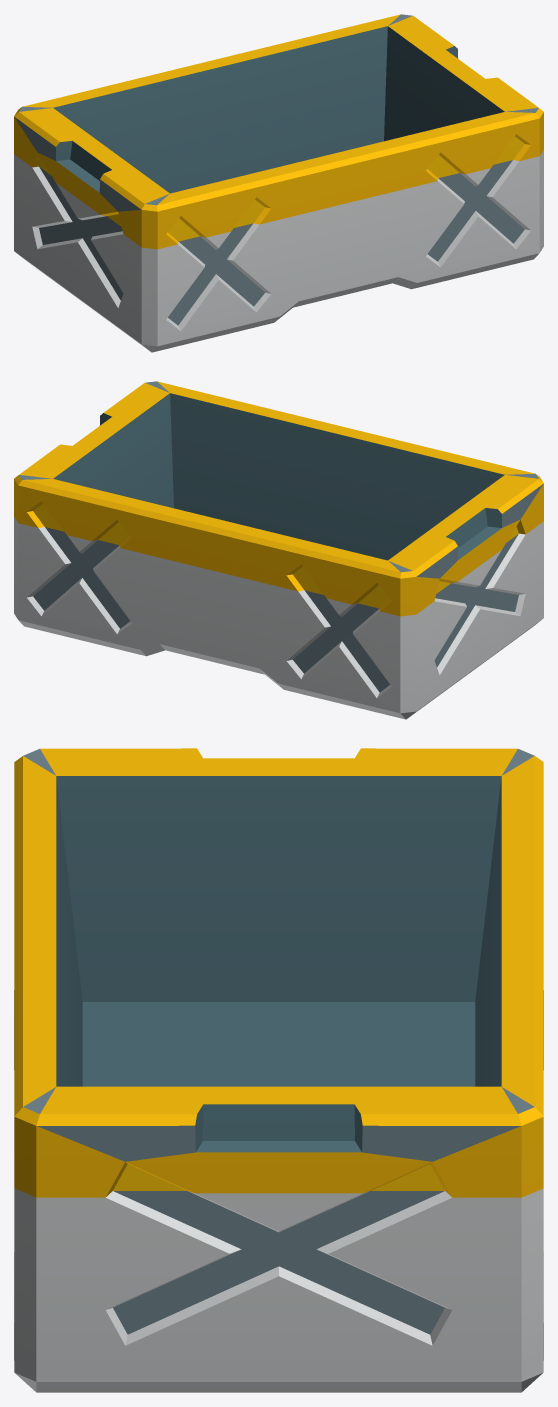
The model's file is Crate_010.fbx.
3 views of the same model, one above another, from view 1: azimuth 30°, elevation 25°; view 2: azimuth 150°, elevation 25°; view 3: azimuth 270°, elevation 25° (orthographic). The views are drawn at different scales.
Parts seen in each view (by area): view 1: Crate_010; view 2: Crate_010; view 3: Crate_010.
Boxes of the visible parts, left/top/right/bottom form: Crate_010: left=14, top=14, right=543, bottom=352; Crate_010: left=14, top=381, right=543, bottom=719; Crate_010: left=14, top=748, right=543, bottom=1392.
Bounding box in the file's own units: 100 × 60.05 × 35.5.
